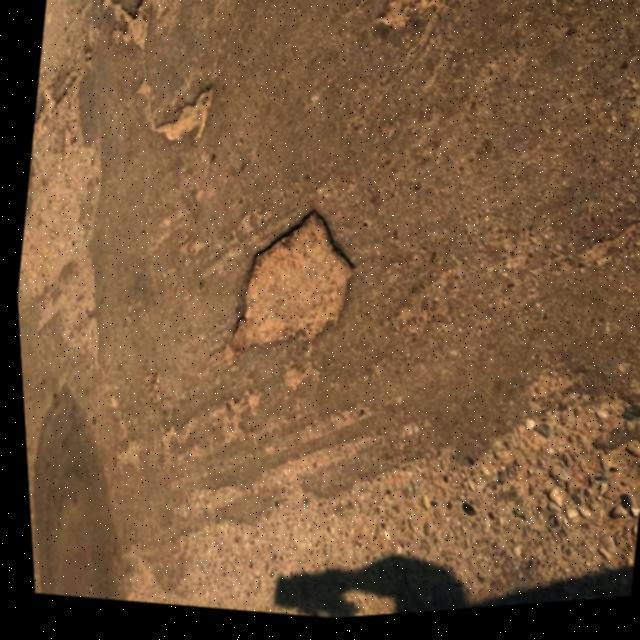pothole: (205, 180, 374, 386)
